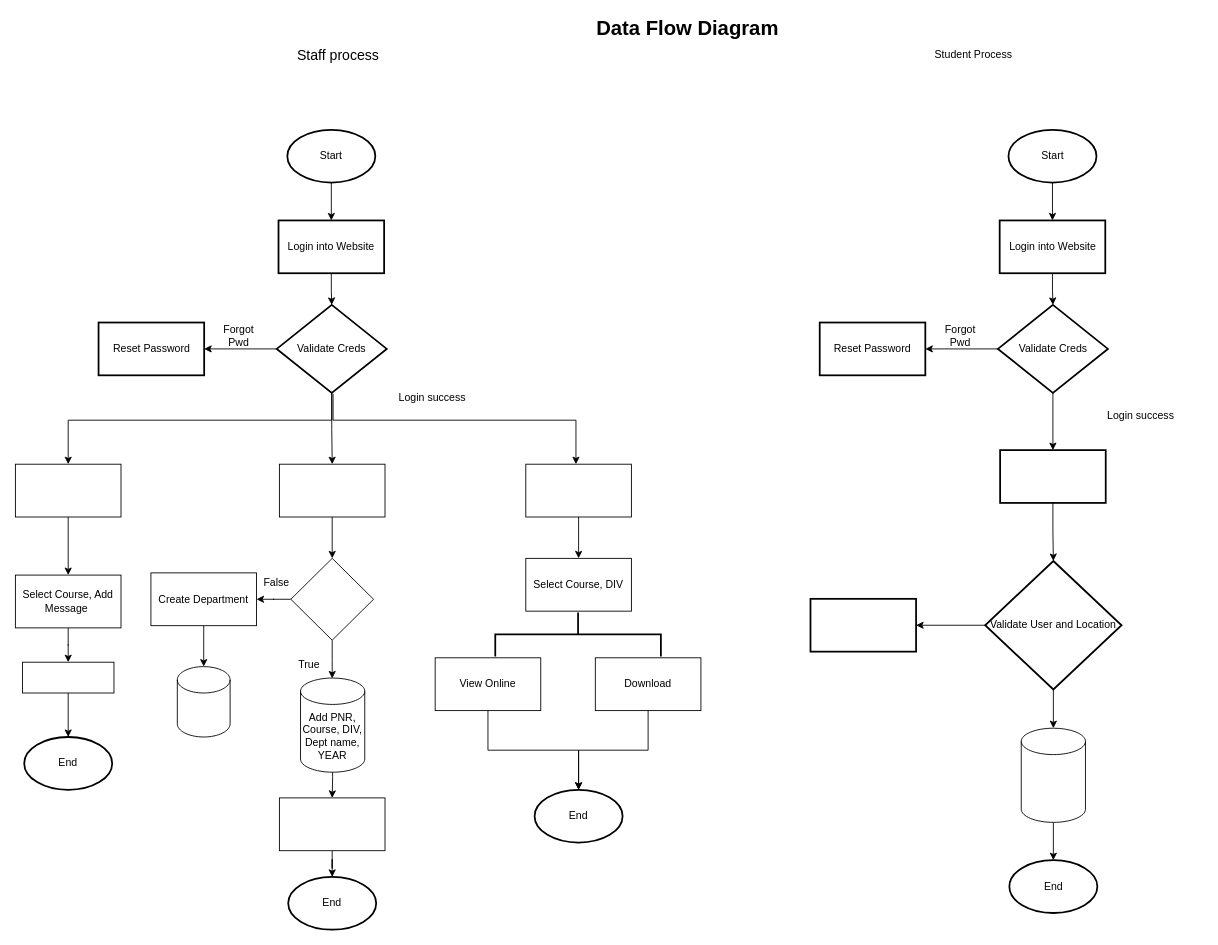
Image size: 1218x945. Some labels were removed from this diagram. Here are the shapes that lost their labels. From the top down, the centre of each, then its label:
point (68, 490): Create Announcements
point (332, 490): Add Students
point (578, 490): Check Attendance
point (1052, 476): Mark Attendance
point (332, 598): Department
point (863, 625): Notify User about Location or Face ID Error
point (68, 677): Share
point (203, 701): Save Dept
point (1052, 774): Insert Attendance Into DB
point (332, 824): Send registration Link to student
